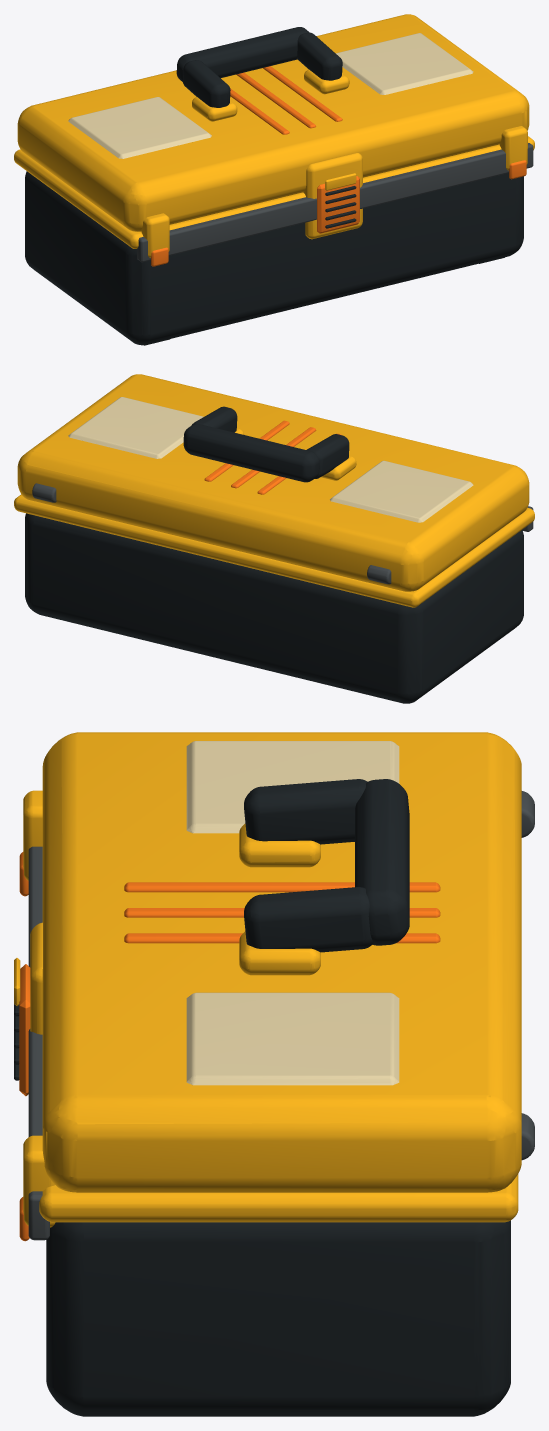
The picture shows the model from 3 angles, top to bottom: view 1: azimuth 30°, elevation 25°; view 2: azimuth 150°, elevation 25°; view 3: azimuth 270°, elevation 25°; orthographic projection. The views are drawn at different scales.
Visible parts, largest first — view 1: Yellow upper lid, Lower black tub, Black front trim, Left organiser frosted lid, Right organiser frosted lid, Yellow lip, Handle grip, Front latch housing, Handle left post, Handle right post, Front latch face, Side latch (+6 smaller); view 2: Lower black tub, Yellow upper lid, Yellow lip, Left organiser frosted lid, Right organiser frosted lid, Handle grip, Handle left post, Handle right post, Central lid rib 3, Central lid rib 2, Handle left base; view 3: Yellow upper lid, Lower black tub, Right organiser frosted lid, Yellow lip, Left organiser frosted lid, Handle grip, Handle right post, Handle left post, Black front trim, Central lid rib 1, Handle right base, Handle left base (+6 smaller).
Part boxes in pixels (bbox=[...]): Yellow upper lid: bbox=[17, 14, 529, 231]; Lower black tub: bbox=[25, 171, 523, 345]; Black front trim: bbox=[137, 143, 533, 262]; Left organiser frosted lid: bbox=[68, 97, 211, 158]; Right organiser frosted lid: bbox=[336, 33, 473, 94]; Yellow lip: bbox=[14, 136, 534, 248]; Handle grip: bbox=[176, 27, 309, 81]; Front latch housing: bbox=[303, 153, 362, 239]; Handle left post: bbox=[183, 60, 230, 107]; Handle right post: bbox=[297, 32, 342, 80]; Front latch face: bbox=[317, 176, 359, 233]; Side latch: bbox=[141, 213, 169, 257]; Lower black tub: bbox=[25, 513, 523, 703]; Yellow upper lid: bbox=[17, 374, 529, 591]; Yellow lip: bbox=[14, 494, 534, 607]; Left organiser frosted lid: bbox=[330, 460, 473, 522]; Right organiser frosted lid: bbox=[68, 397, 203, 458]; Handle grip: bbox=[183, 424, 319, 482]; Handle left post: bbox=[306, 434, 349, 478]; Handle right post: bbox=[191, 406, 237, 432]; Central lid rib 3: bbox=[204, 420, 289, 481]; Central lid rib 2: bbox=[231, 427, 316, 488]; Handle left base: bbox=[321, 455, 356, 480]; Yellow upper lid: bbox=[42, 732, 521, 1192]; Lower black tub: bbox=[46, 1220, 510, 1416]; Right organiser frosted lid: bbox=[186, 992, 399, 1085]; Yellow lip: bbox=[39, 1174, 518, 1222]; Left organiser frosted lid: bbox=[186, 741, 399, 833]; Handle grip: bbox=[355, 779, 409, 945]; Handle right post: bbox=[244, 887, 373, 952]; Handle left post: bbox=[244, 779, 367, 844]; Black front trim: bbox=[28, 846, 49, 1240]; Central lid rib 1: bbox=[124, 882, 440, 892]; Handle right base: bbox=[239, 931, 320, 975]; Handle left base: bbox=[239, 824, 320, 867].
Bounding box in the file's own units: 90.02 × 43.48 × 50.85.
